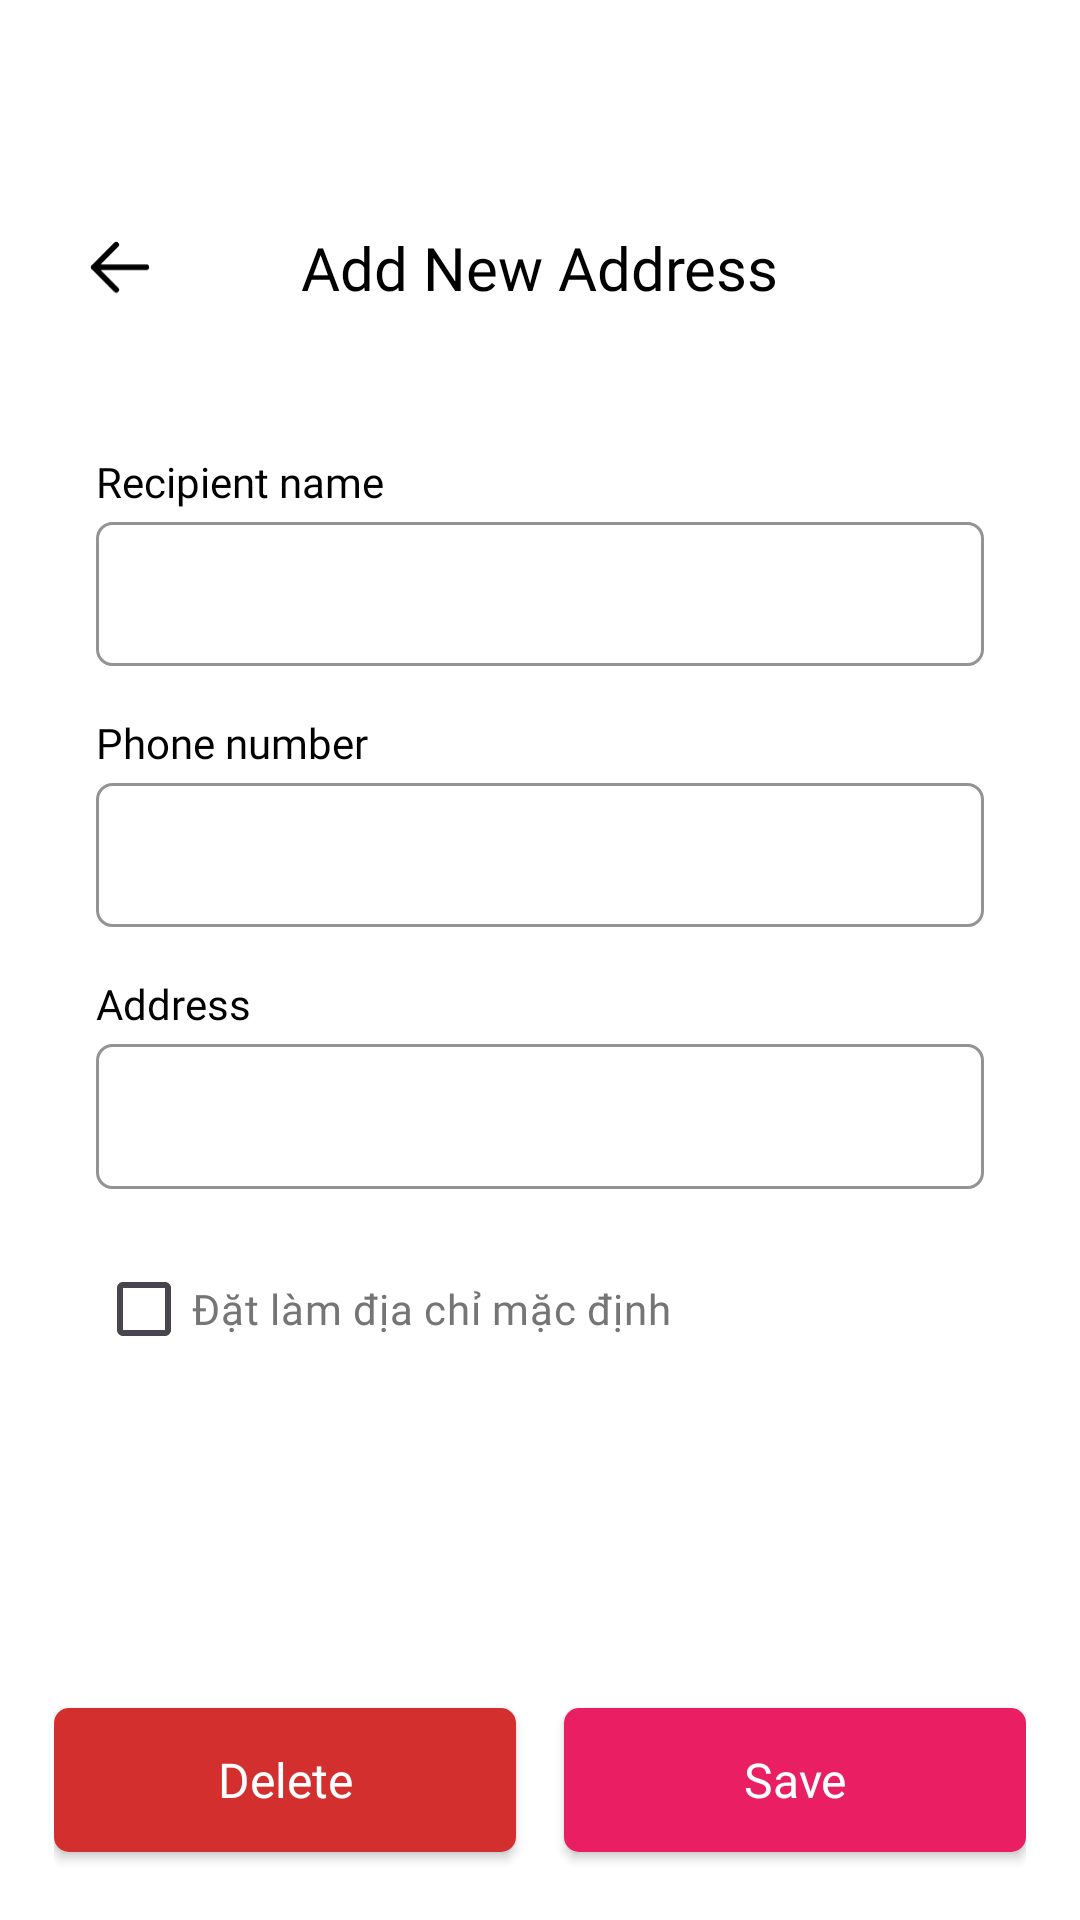

Named icons in this screenshot (1080px x 1920px) and their centers, [x,y]:
left: [119,267]
